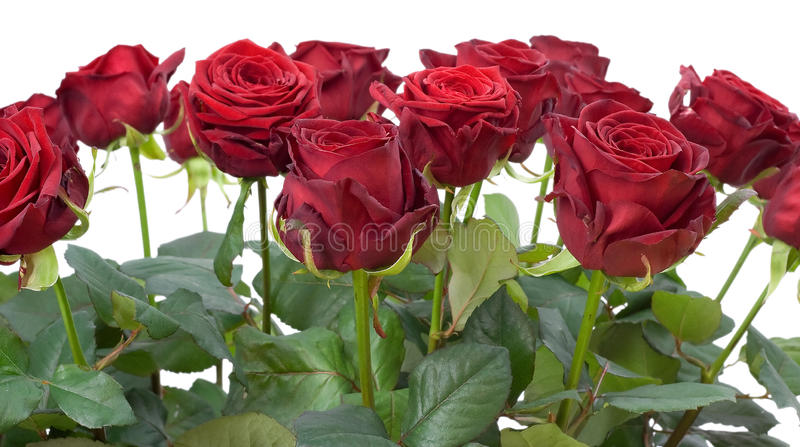RedRose: (560, 116, 681, 271), (297, 117, 414, 259), (201, 42, 295, 170), (678, 68, 800, 163), (406, 58, 500, 180), (0, 129, 85, 254), (457, 29, 538, 134), (84, 47, 171, 141), (315, 30, 387, 110)
